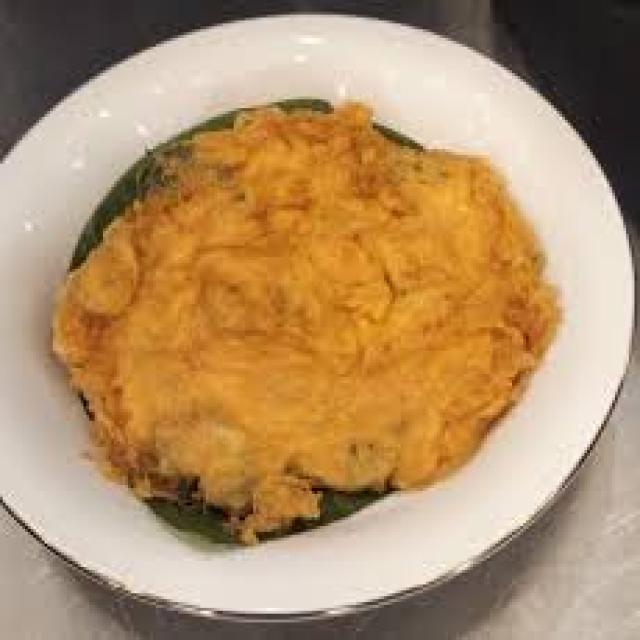telur_dadar: (61, 102, 536, 519)
